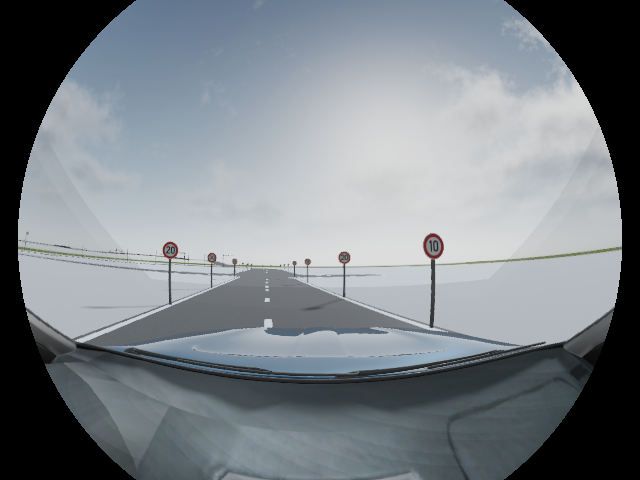Speed Limit 10: (423, 233, 444, 259)
Speed Limit 20: (163, 241, 178, 259), (339, 252, 351, 263)
